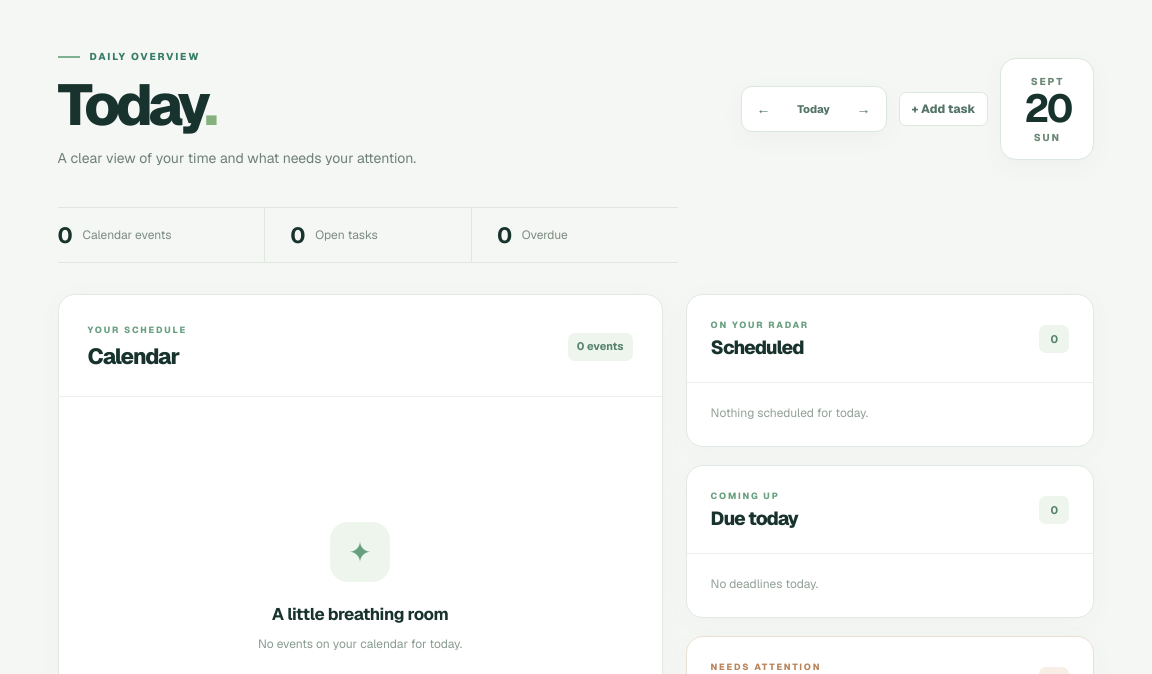
Day navigation › adopts the loaded day's data and updates the completion provider
The image size is (1152, 674).
Click the link named "Next day" at [864, 109], box [857,100,871,118]
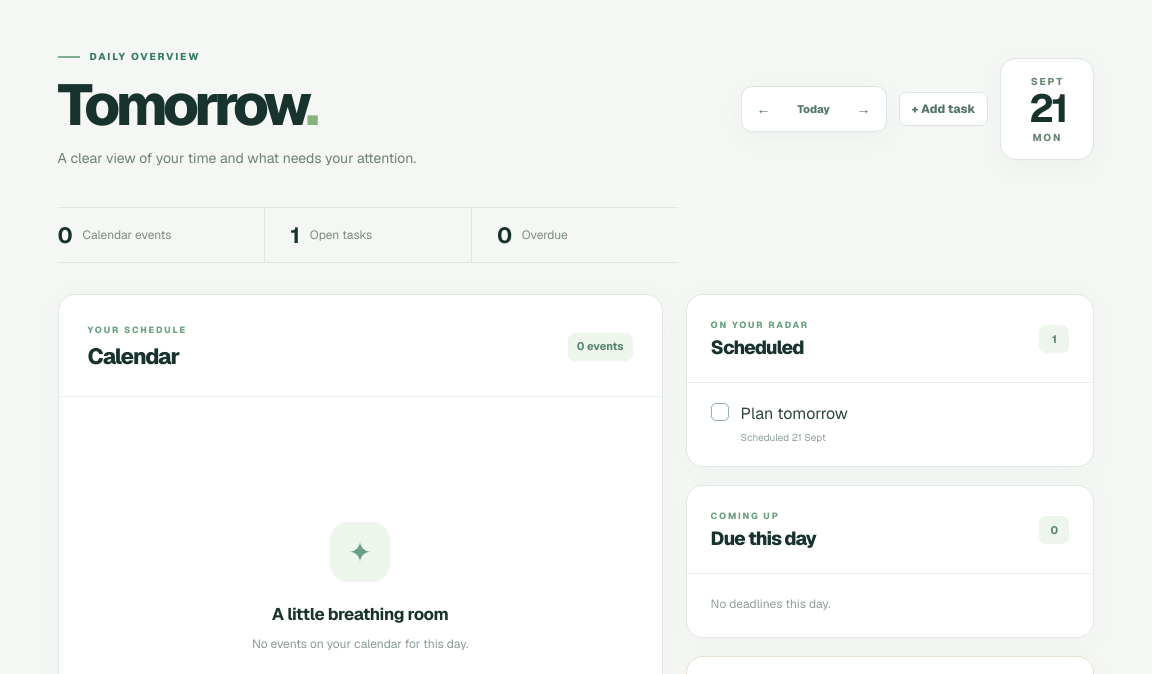
Check: the button "Plan tomorrow" is shown, box [741,402,848,426]
